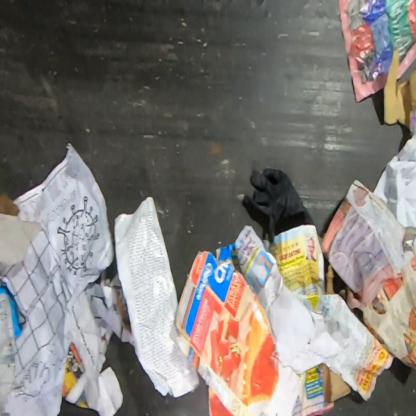cardboard: (173, 249, 303, 415), (0, 190, 44, 270), (383, 48, 415, 129), (318, 362, 353, 404), (325, 263, 338, 295)
soft_plastic: (242, 167, 308, 244)
